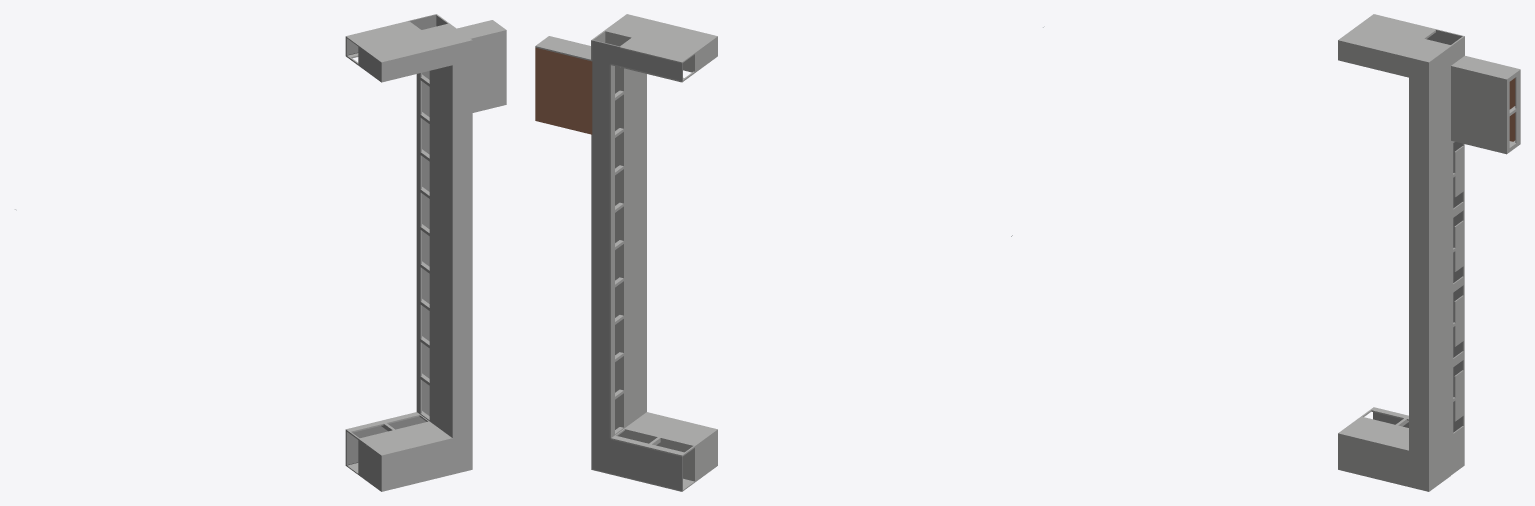
File: hallway.fbx
3 views of the same model, side by side, from view 1: azimuth 30°, elevation 25°; view 2: azimuth 150°, elevation 25°; view 3: azimuth 330°, elevation 25° (orthographic).
Parts seen in each view (by area): view 1: オブジェクト_121, オブジェクト_122, オブジェクト_385, オブジェクト_117, オブジェクト_355; view 2: オブジェクト_122, オブジェクト_385, オブジェクト_121, オブジェクト_119, オブジェクト_120, オブジェクト_355, オブジェクト_354, オブジェクト_117; view 3: オブジェクト_121, オブジェクト_117, オブジェクト_354, オブジェクト_122, オブジェクト_385.
Boxes of the visible parts, x1=… form: オブジェクト_121: x1=345, y1=14, x2=472, y2=491; オブジェクト_122: x1=346, y1=56, x2=452, y2=455; オブジェクト_385: x1=345, y1=14, x2=436, y2=464; オブジェクト_117: x1=457, y1=20, x2=506, y2=112; オブジェクト_355: x1=345, y1=53, x2=429, y2=440; オブジェクト_122: x1=610, y1=56, x2=717, y2=455; オブジェクト_385: x1=592, y1=40, x2=682, y2=490; オブジェクト_121: x1=591, y1=14, x2=717, y2=481; オブジェクト_119: x1=535, y1=47, x2=592, y2=134; オブジェクト_120: x1=605, y1=30, x2=695, y2=481; オブジェクト_355: x1=609, y1=64, x2=695, y2=456; オブジェクト_354: x1=591, y1=134, x2=695, y2=491; オブジェクト_117: x1=535, y1=36, x2=590, y2=59; オブジェクト_121: x1=1338, y1=14, x2=1464, y2=491; オブジェクト_117: x1=1451, y1=56, x2=1520, y2=154; オブジェクト_354: x1=1451, y1=141, x2=1464, y2=475; オブジェクト_122: x1=1338, y1=60, x2=1409, y2=450; オブジェクト_385: x1=1373, y1=29, x2=1462, y2=432.
Size of the model in its own units: 69.25 by 59.54 by 9.25.
